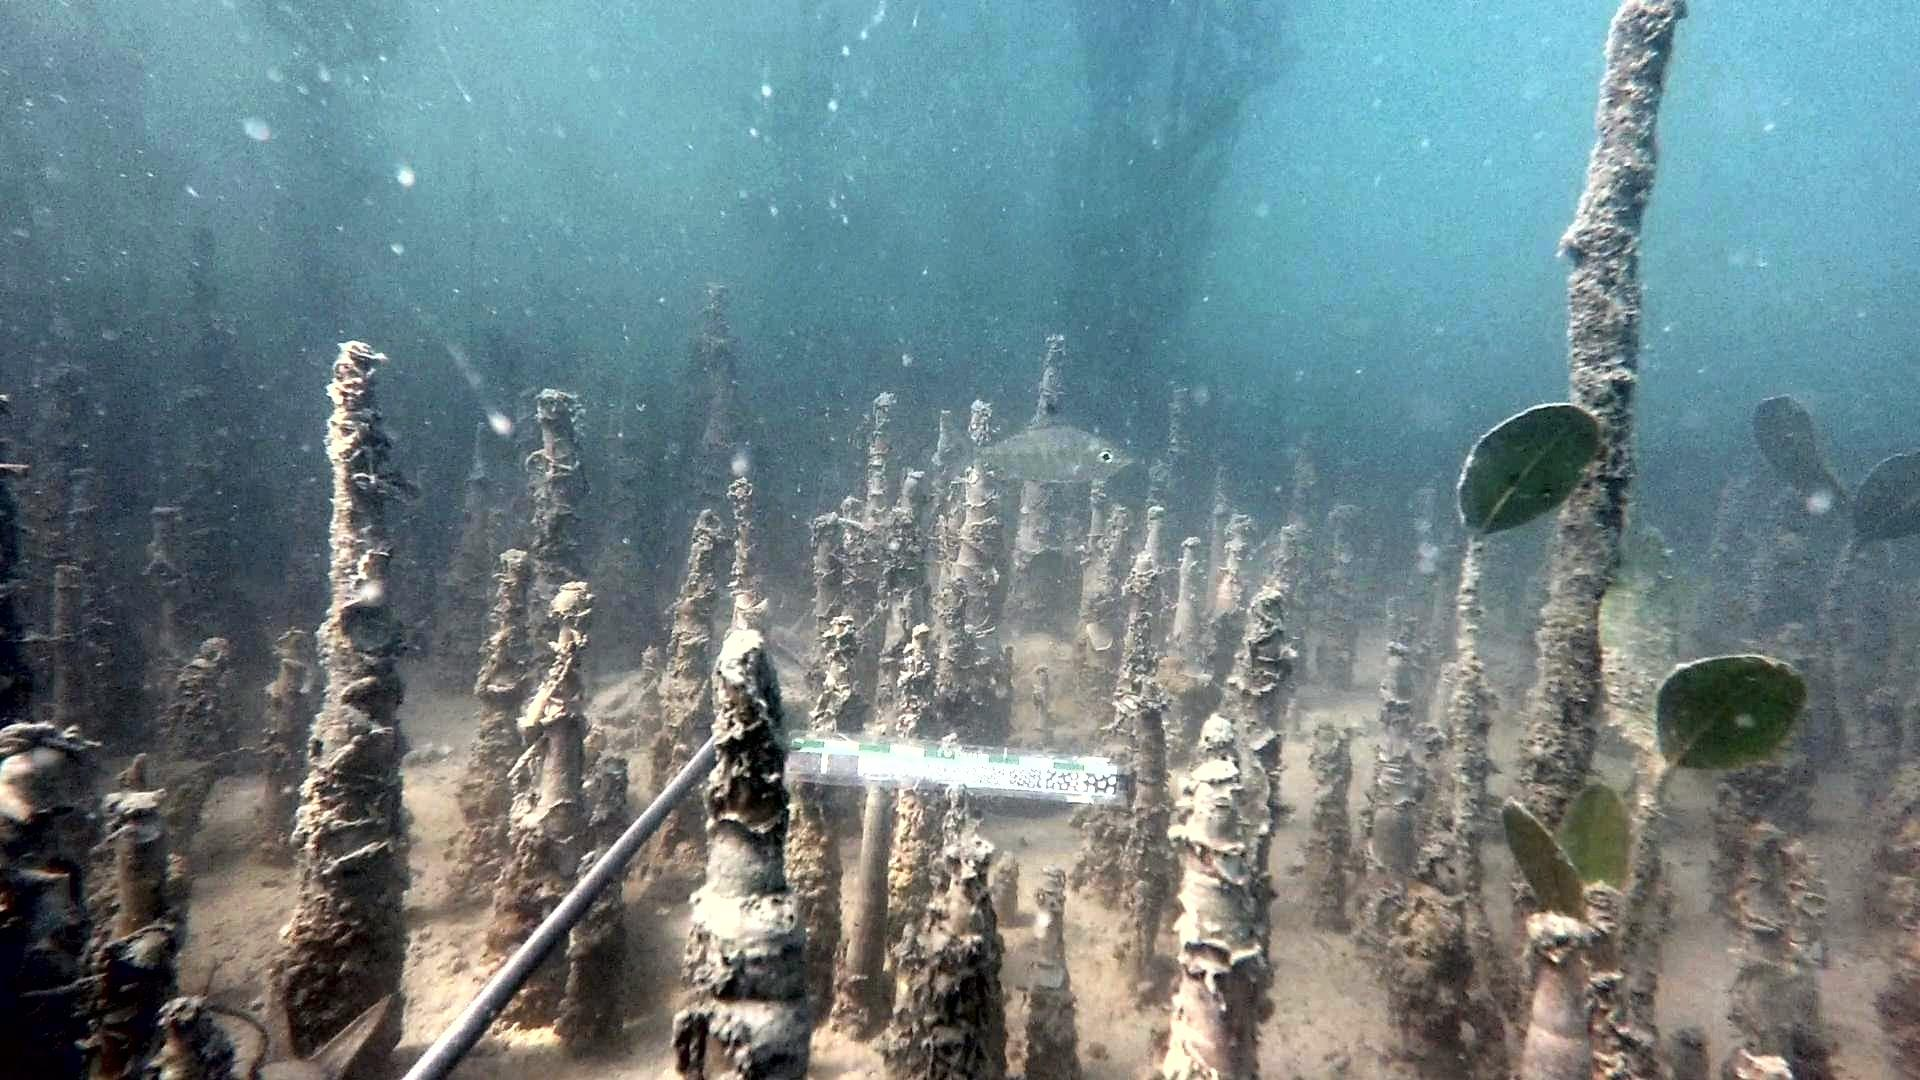gerres: (931, 402, 1134, 497)
